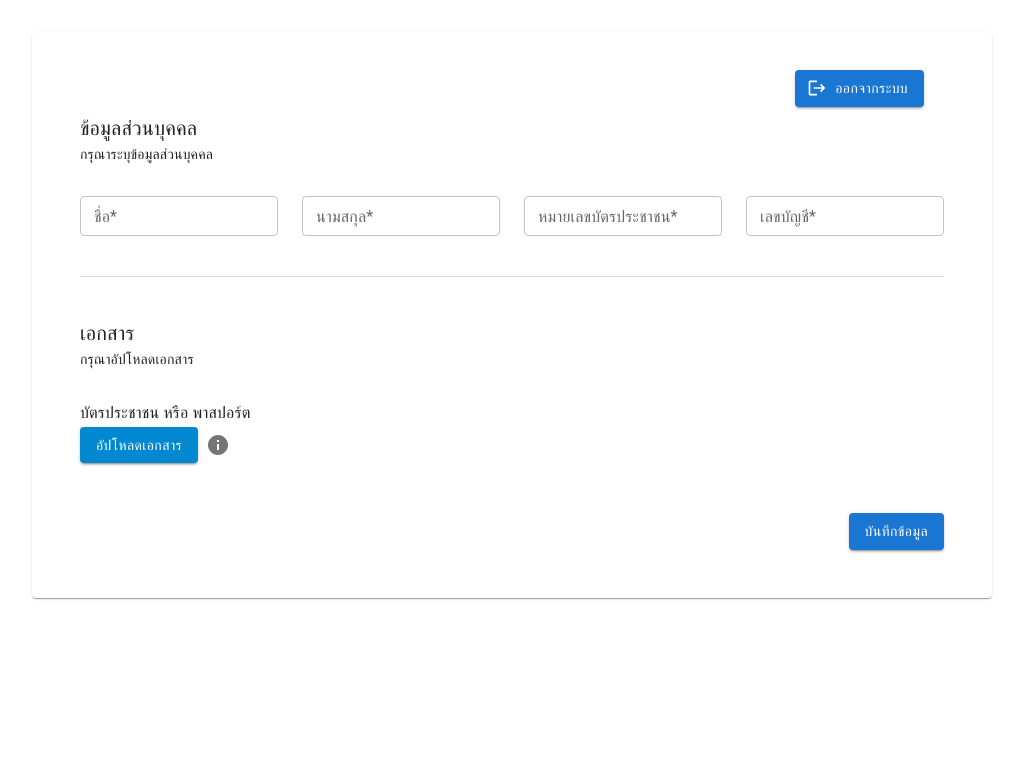
<ConfirmView /> › show error text account no when submit
In the field labelled "เลขบัญชี*": [845, 216] box [746, 196, 944, 236], type "rjngragafnralf"
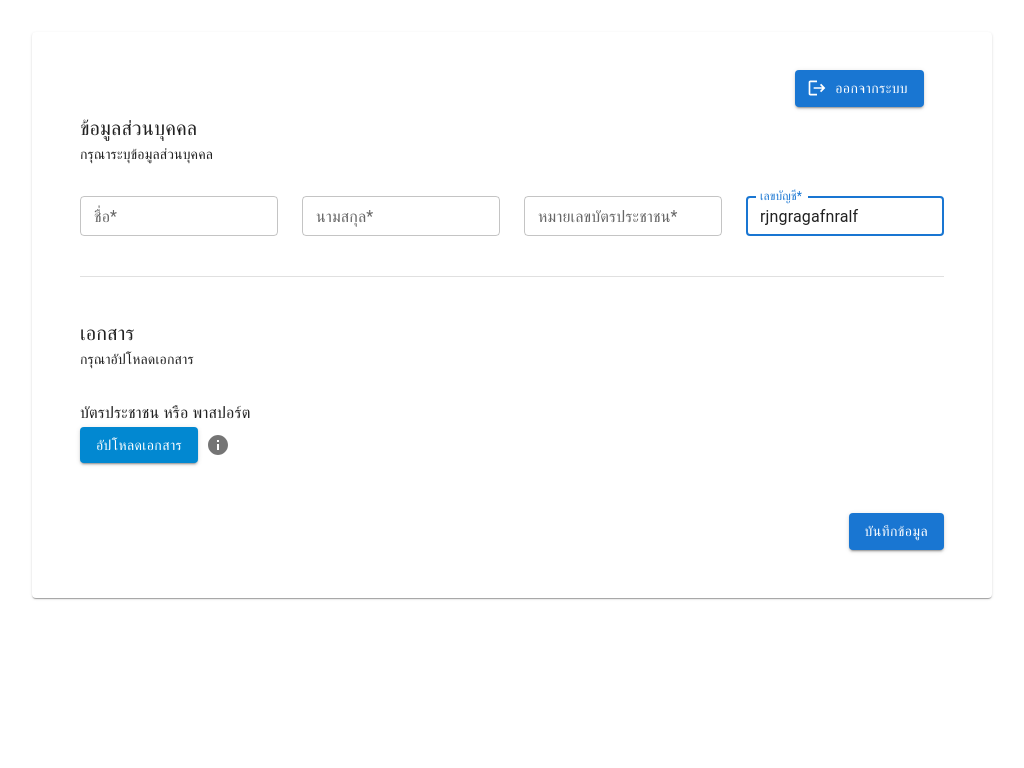
Click the button with test id "submit-button": [896, 531] box [848, 513, 944, 550]
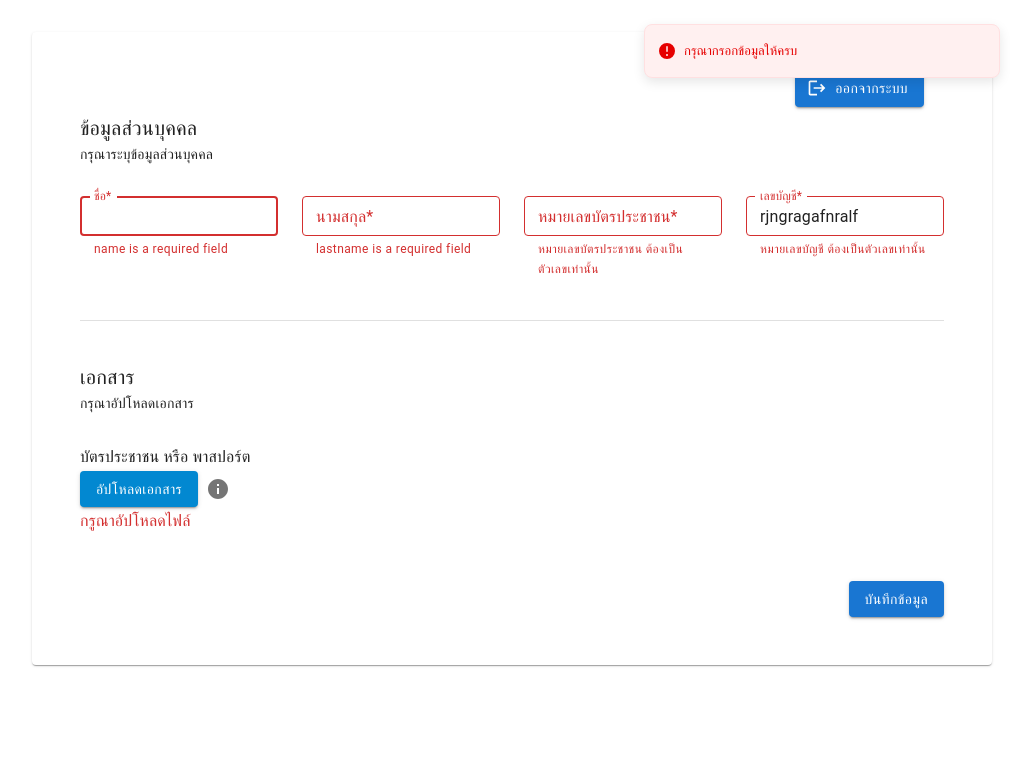
Expected: the text "หมายเลขบัญชี ต้องเป็นตัวเลขเท่านั้น" is shown, [760, 240, 930, 260]
